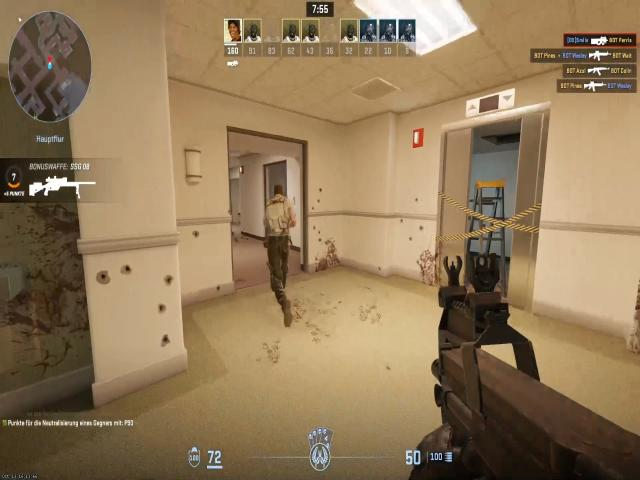T: (261, 178, 298, 246)
T-Head: (267, 179, 289, 202)
